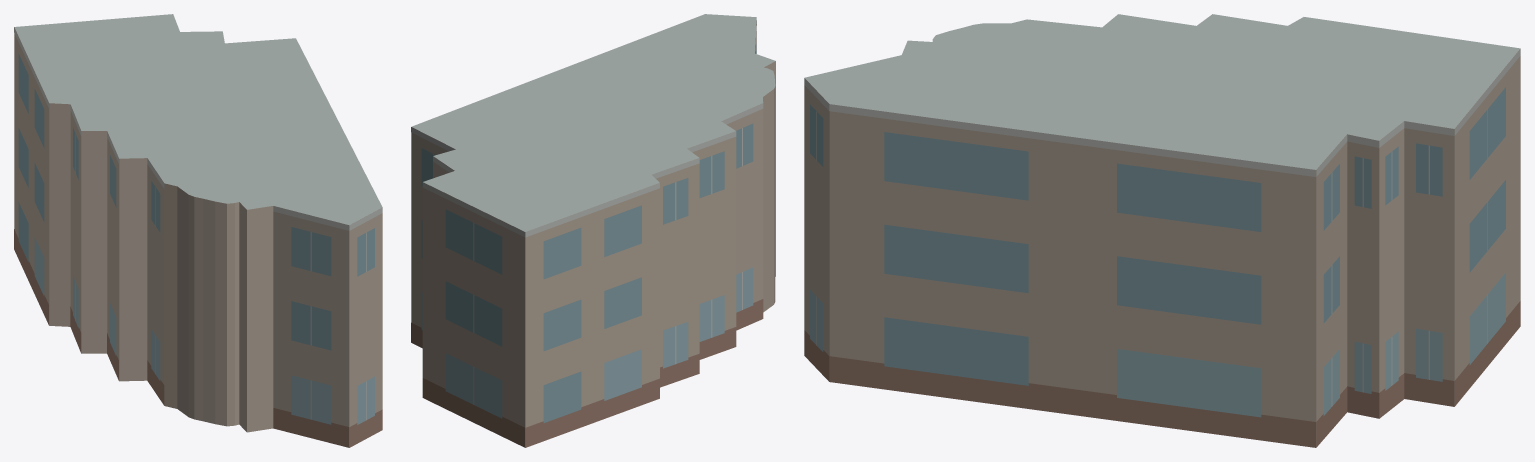
The model's file is survey-upis-32674756.glb.
3 renders of one model, left to right at view 1: azimuth 30°, elevation 25°; view 2: azimuth 150°, elevation 25°; view 3: azimuth 270°, elevation 25°, orthographic. The views are drawn at different scales.
Visible parts, largest first — view 1: survey-upis-32674756.tmp; view 2: survey-upis-32674756.tmp; view 3: survey-upis-32674756.tmp.
Part boxes in pixels (x1,y1,x2,y2): survey-upis-32674756.tmp: (14, 14, 382, 447); survey-upis-32674756.tmp: (411, 14, 775, 447); survey-upis-32674756.tmp: (804, 14, 1520, 447).
Size of the model in its own units: 11.54 by 9.58 by 22.39.
